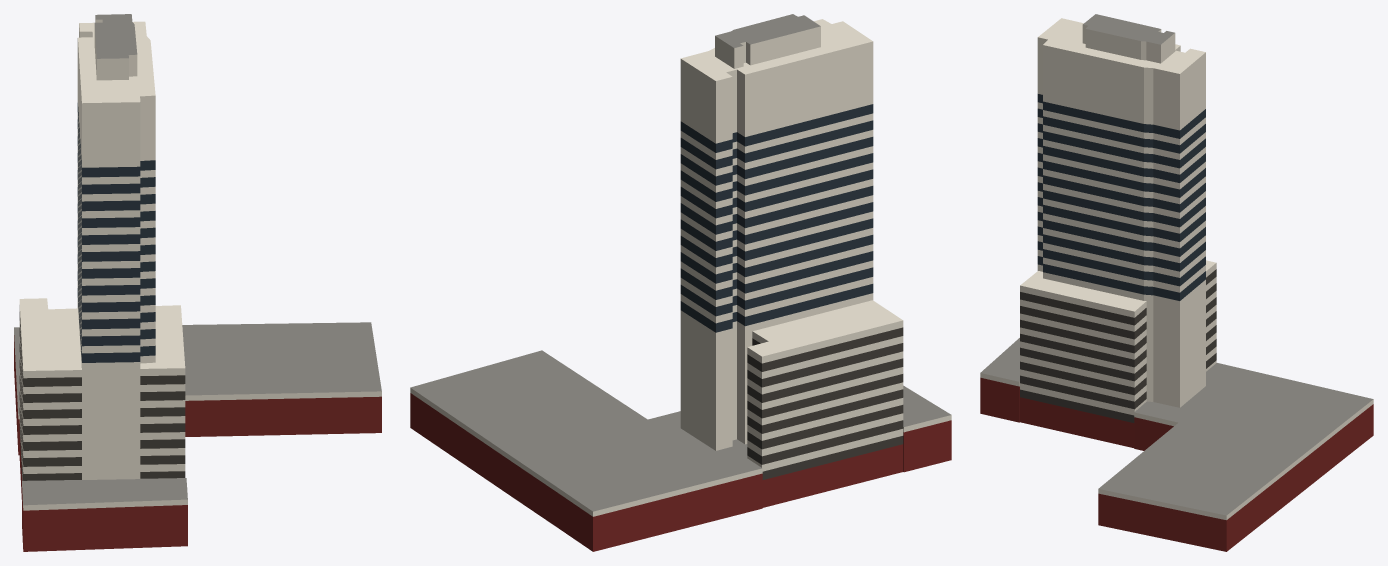
Rendered from the_d_las_vegas_w132157010.glb.
3 views of the same model, side by side, from view 1: azimuth 30°, elevation 25°; view 2: azimuth 150°, elevation 25°; view 3: azimuth 270°, elevation 25° (orthographic). The views are drawn at different scales.
Visible parts, largest first — view 1: Tower; view 2: Tower; view 3: Tower.
Part boxes in pixels (x1,y1,x2,y2): Tower: (14, 14, 381, 551); Tower: (410, 14, 951, 551); Tower: (980, 14, 1373, 551).
Size of the model in its own units: 132 by 124 by 114.
